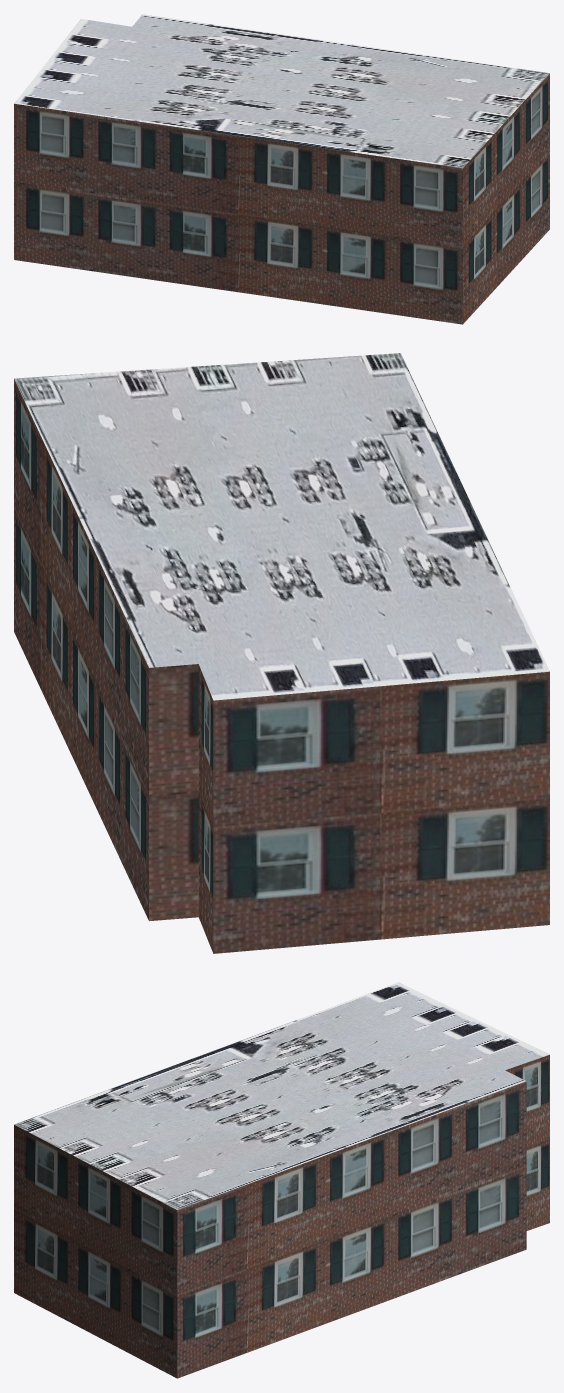
Rendered from ResTex__1549.fbx.
3 renders of one model, top to bottom at view 1: azimuth 30°, elevation 25°; view 2: azimuth 150°, elevation 25°; view 3: azimuth 270°, elevation 25°, orthographic. The views are drawn at different scales.
Visible parts, largest first — view 1: CityEngineMaterial_14_m, CityEngineMaterial_2_m; view 2: CityEngineMaterial_14_m, CityEngineMaterial_2_m; view 3: CityEngineMaterial_14_m, CityEngineMaterial_2_m.
Part boxes in pixels (x1,y1,x2,y2): CityEngineMaterial_14_m: (14,73,549,324); CityEngineMaterial_2_m: (14,14,549,168); CityEngineMaterial_14_m: (14,379,549,953); CityEngineMaterial_2_m: (14,353,549,700); CityEngineMaterial_14_m: (14,1054,549,1378); CityEngineMaterial_2_m: (14,982,549,1210).
Size of the model in its own units: 17.41 by 6 by 17.31.
2 materials, 2 textured.
